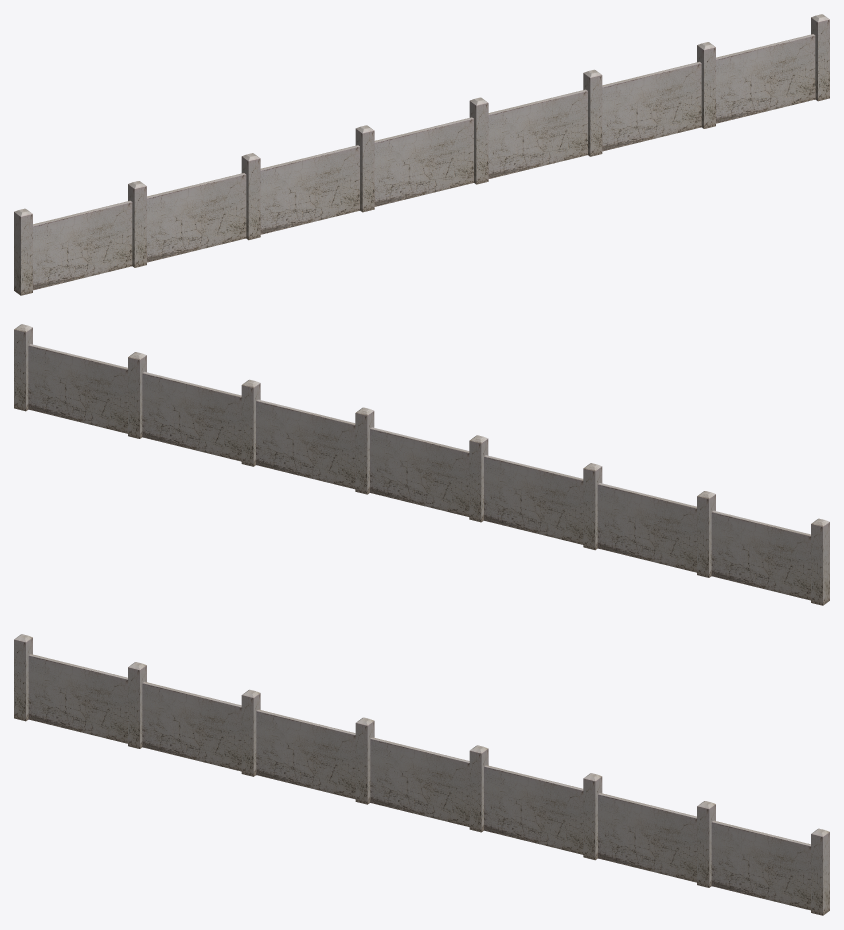
The model's file is Wall 5.FBX.
3 renders of one model, top to bottom at view 1: azimuth 30°, elevation 25°; view 2: azimuth 150°, elevation 25°; view 3: azimuth 330°, elevation 25°, orthographic.
Visible parts, largest first — view 1: wall 5; view 2: wall 5; view 3: wall 5.
Boxes of the visible parts, x1,y1,x2,y2 form: wall 5: (14,14,829,295); wall 5: (14,324,829,605); wall 5: (14,634,829,915).
Bounding box in the file's own units: 2684 × 257 × 40.05.
Materials: 1 (1 with a texture image).
